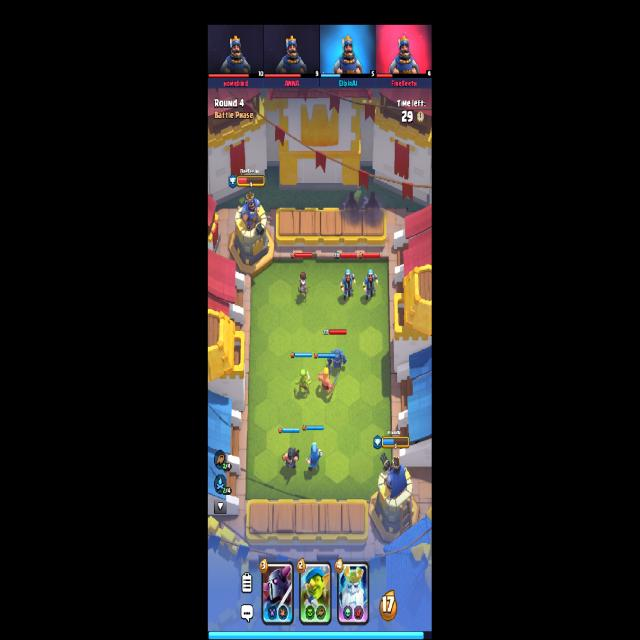barbarian: (318, 368, 338, 392)
card_pekka: (262, 562, 294, 624)
card_royal_ghost: (337, 560, 370, 624)
card_spear_goblin: (299, 559, 332, 627)
executioner: (282, 446, 301, 472)
goblin: (295, 370, 312, 396)
mini_pekka: (326, 350, 348, 369)
princess: (298, 272, 310, 299)
wizard: (363, 270, 379, 299), (306, 443, 322, 471), (341, 270, 356, 297)
